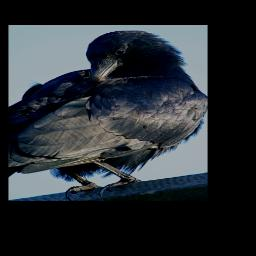Crow: (8, 30, 206, 200)
